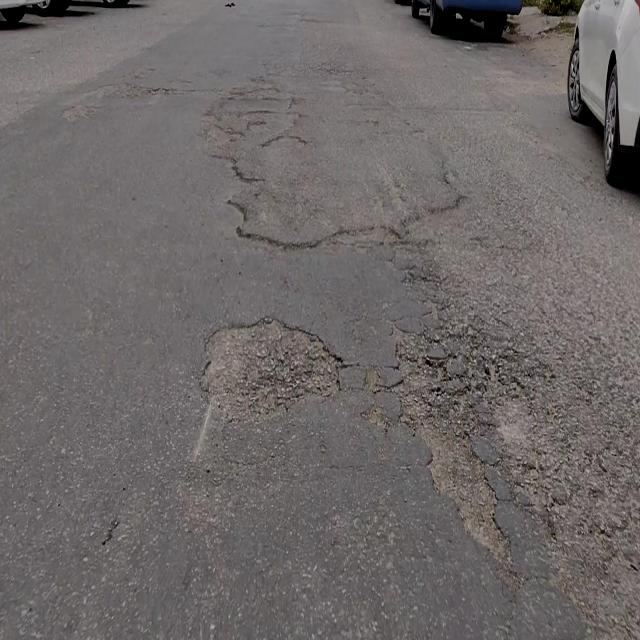Potholes: (397, 388, 515, 562), (200, 310, 344, 426)
